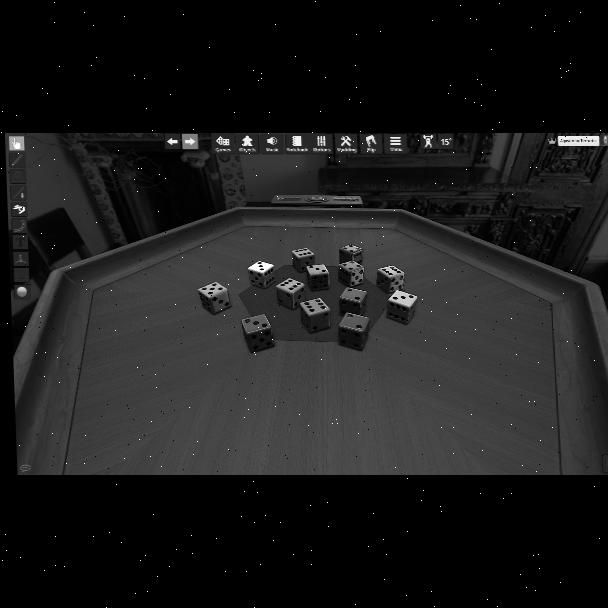d6: (244, 315, 277, 353), (338, 313, 369, 350), (198, 281, 230, 315), (300, 298, 330, 334), (388, 292, 419, 324), (276, 278, 306, 310), (339, 288, 367, 318), (376, 266, 405, 294), (247, 261, 275, 289), (338, 260, 364, 288), (305, 264, 329, 292), (291, 248, 314, 274), (339, 245, 362, 267)
